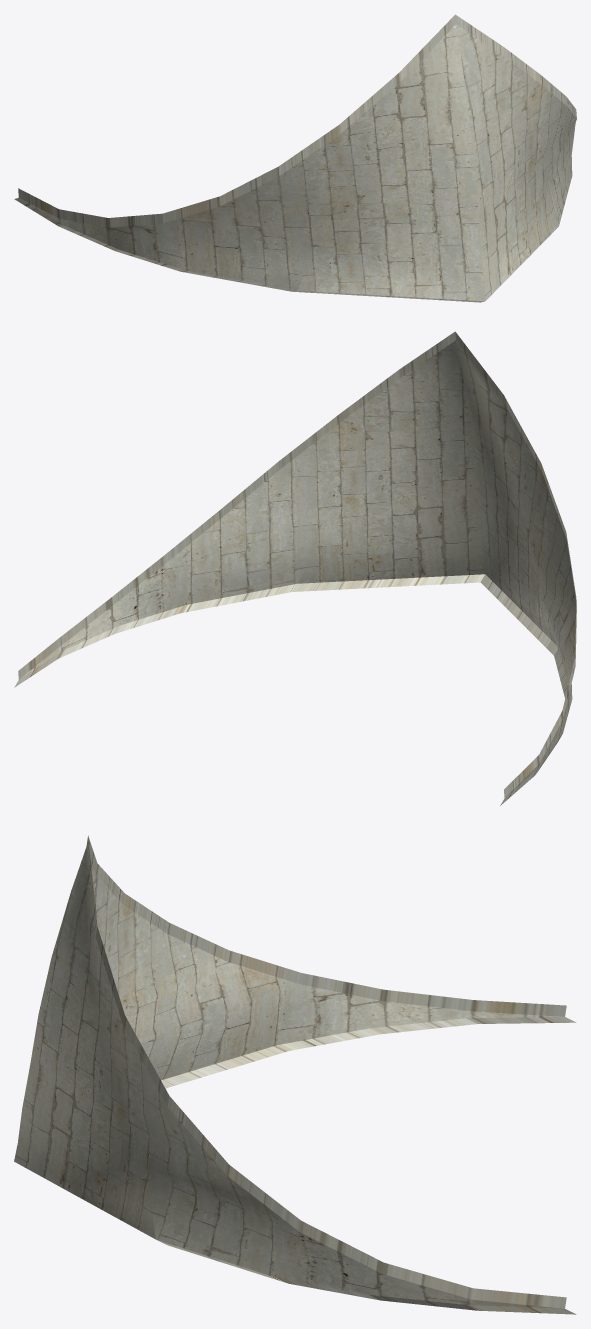
The model's file is Cath_rooftall_piec1.fbx.
The picture shows the model from 3 angles, top to bottom: view 1: azimuth 30°, elevation 25°; view 2: azimuth 150°, elevation 25°; view 3: azimuth 270°, elevation 25°; orthographic projection. The views are drawn at different scales.
Visible parts, largest first — view 1: Cath_rooftall_piec1; view 2: Cath_rooftall_piec1; view 3: Cath_rooftall_piec1.
Part boxes in pixels (x1=…): Cath_rooftall_piec1: x1=14, y1=14, x2=576, y2=302; Cath_rooftall_piec1: x1=14, y1=331, x2=576, y2=805; Cath_rooftall_piec1: x1=14, y1=835, x2=576, y2=1314.
Size of the model in its own units: 718 by 382 by 585.
